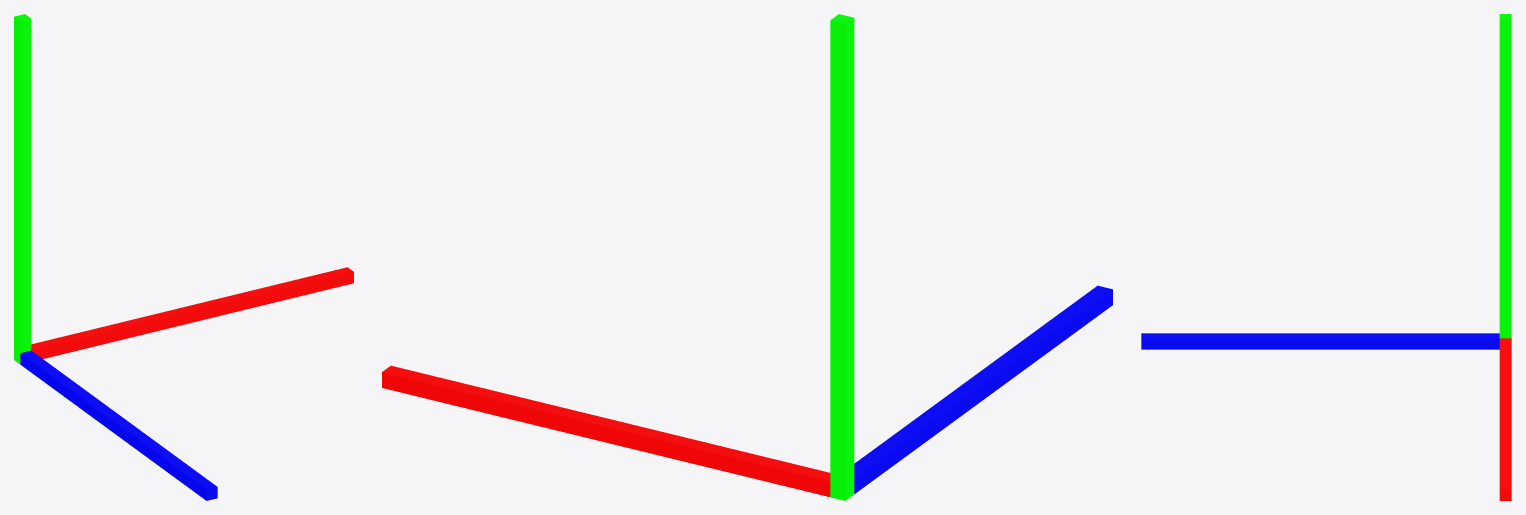
File: gizmo.glb
3 views of the same model, side by side, from view 1: azimuth 30°, elevation 25°; view 2: azimuth 150°, elevation 25°; view 3: azimuth 270°, elevation 25° (orthographic). The views are drawn at different scales.
Visible parts, largest first — view 1: Cube; view 2: Cube; view 3: Cube.
Part boxes in pixels (x1,y1,x2,y2): Cube: [14, 14, 353, 500]; Cube: [382, 14, 1112, 500]; Cube: [1141, 14, 1511, 500].
Size of the model in its own units: 3.05 by 3 by 3.05.
